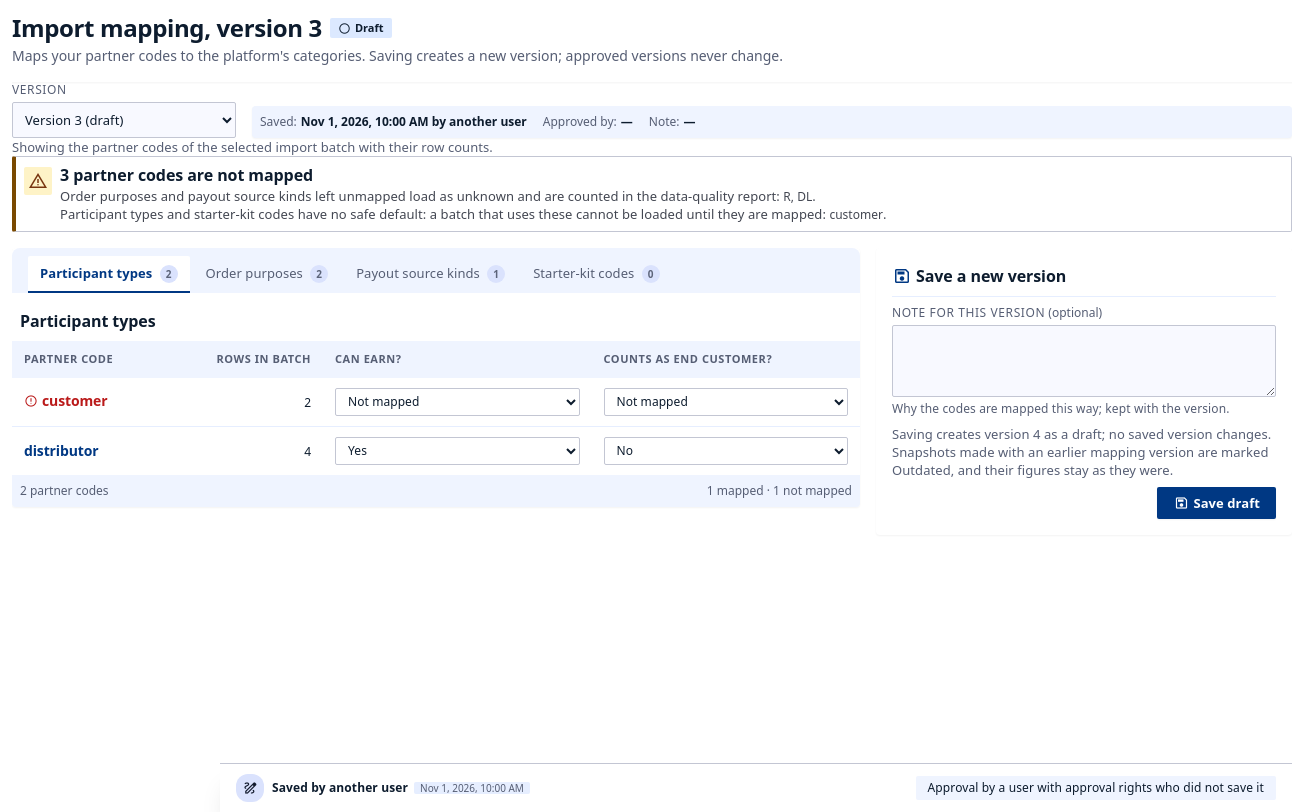
it: MappingEditor › refuses a half-answered participant type before sending
This screenshot has width=1292, height=812.
Select "Yes" in the dropdown named "Can earn: customer" at x=457, y=402, box top-left (335, 388), bottom-right (580, 416)
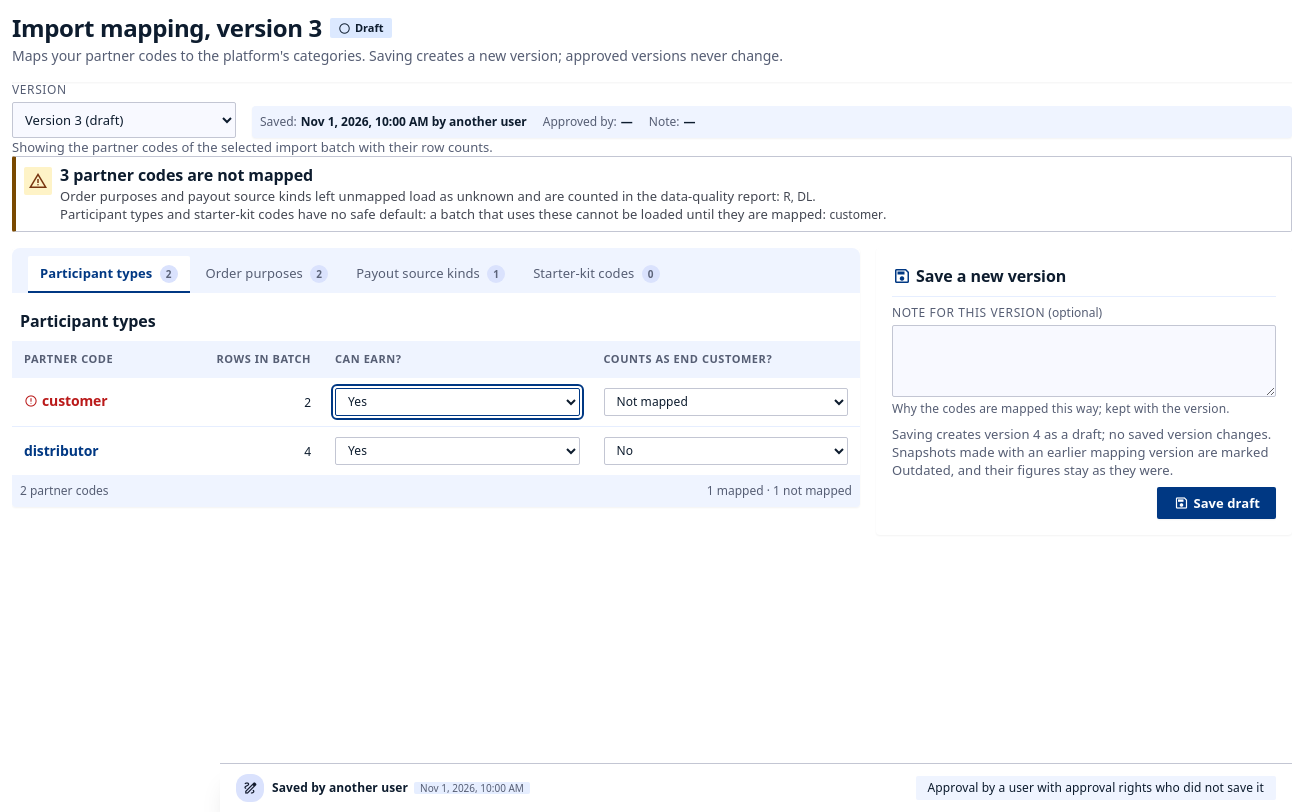
Click the button "Save draft".
click(1217, 503)  # box top-left (1158, 487), bottom-right (1276, 519)
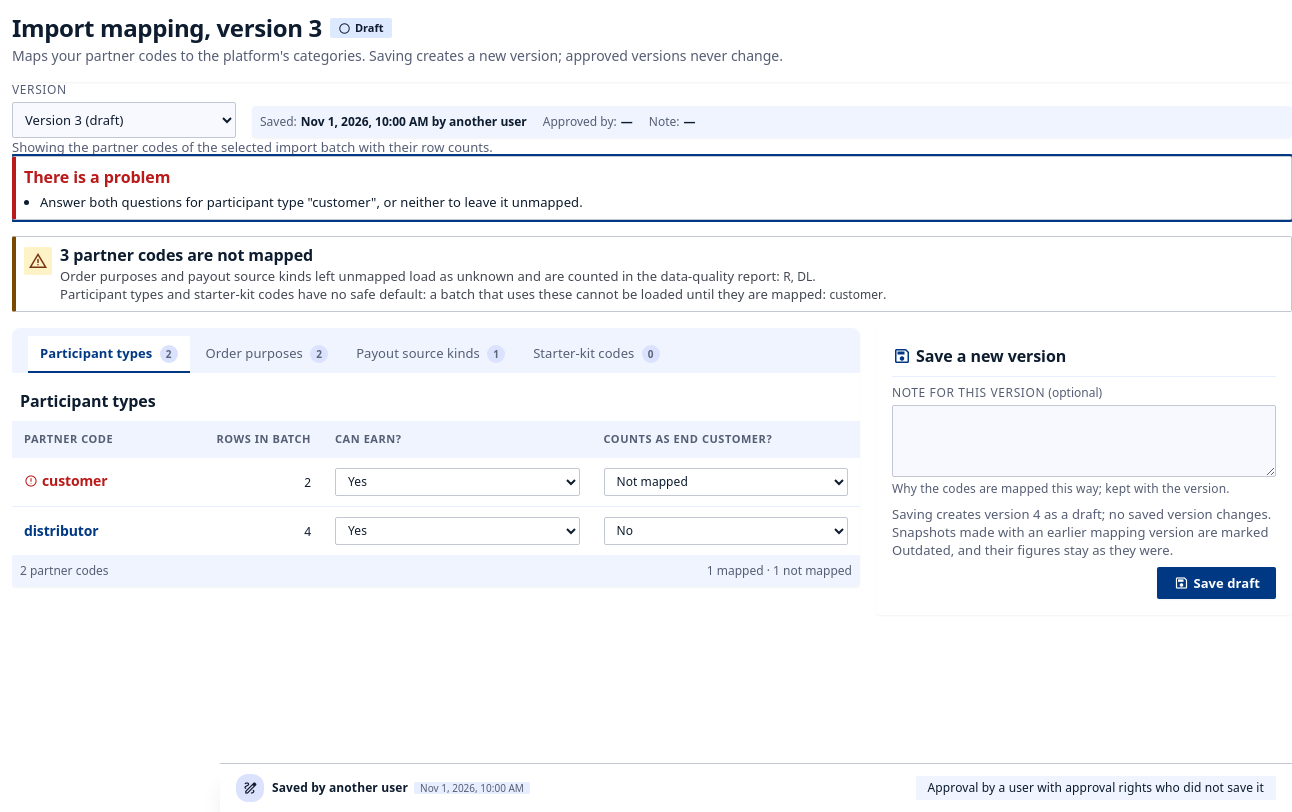
Result: the message that starts with "There is a problem" shows "participant type \"customer\"" at top-left (40, 193), bottom-right (583, 211)
